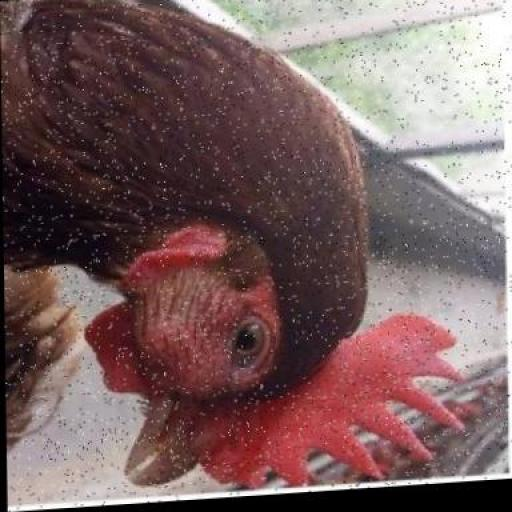disease: (130, 249, 310, 405)
